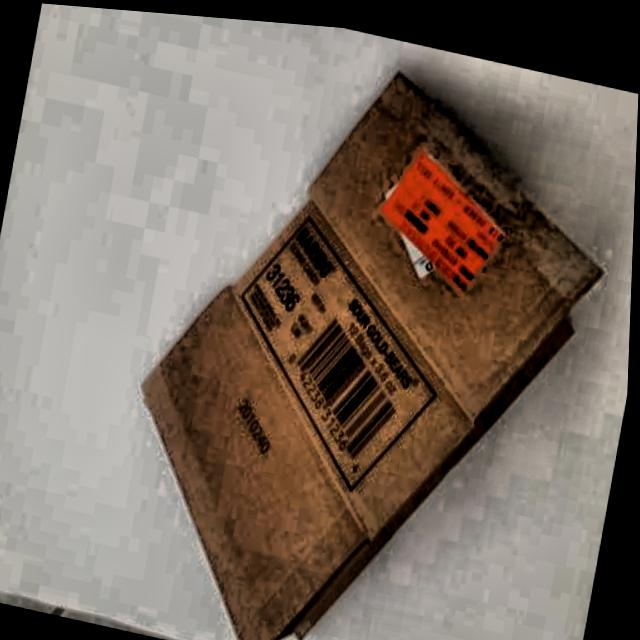Cardbox: (92, 7, 640, 640)
